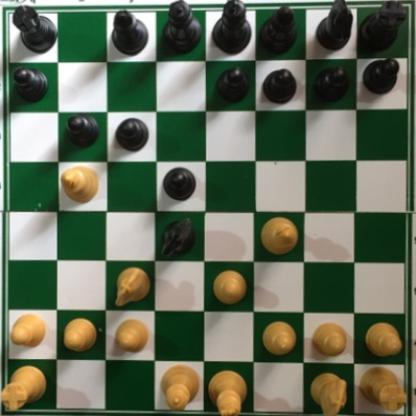black-bishop: (255, 4, 297, 52), (110, 10, 152, 56)
black-king: (210, 0, 251, 54)
black-knight: (316, 0, 355, 52), (158, 215, 197, 258)
black-pawn: (6, 65, 49, 104), (112, 113, 152, 151), (160, 163, 197, 202), (362, 55, 400, 92), (213, 67, 248, 106), (311, 66, 346, 105), (259, 68, 295, 104), (62, 108, 97, 144)
black-queen: (157, 0, 200, 54)
black-rook: (357, 0, 405, 53), (11, 2, 58, 53)
white-bishop: (256, 211, 300, 254), (59, 165, 100, 205)
white-king: (204, 367, 247, 416)
white-knight: (112, 262, 152, 306), (310, 370, 347, 416)
white-pawn: (7, 308, 49, 351), (60, 315, 99, 356), (359, 321, 402, 357), (261, 318, 300, 357), (211, 269, 248, 308), (111, 317, 150, 353), (310, 323, 348, 358)
white-queen: (157, 361, 200, 413)
white-rook: (0, 362, 48, 412), (356, 364, 406, 411)
